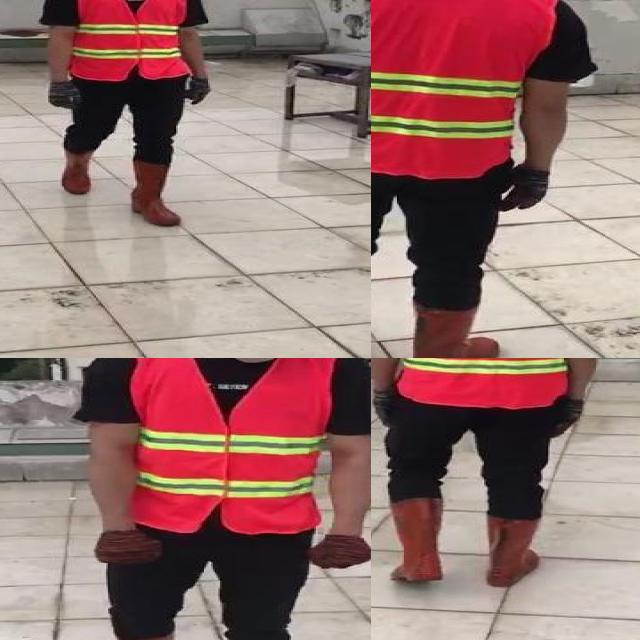boots: (388, 497, 447, 584), (407, 303, 500, 358), (484, 511, 539, 587), (131, 156, 185, 227), (59, 144, 94, 196)
hand_glove: (307, 536, 371, 571), (500, 166, 543, 217), (96, 531, 162, 564), (371, 386, 400, 428), (553, 400, 580, 439), (183, 74, 213, 103), (48, 82, 80, 108)
person: (71, 358, 371, 640), (371, 0, 601, 358), (371, 358, 623, 590), (38, 0, 219, 234)
vest: (127, 358, 335, 536), (371, 0, 548, 175), (73, 0, 192, 78), (400, 358, 585, 407)
